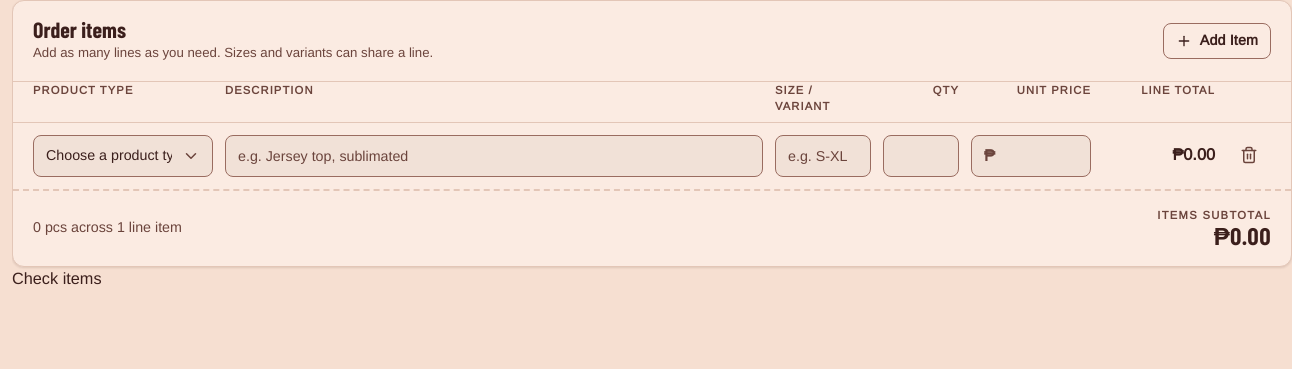
Test: Add Item and Remove (focus rules) › adds a row and moves focus to its Product type
This screenshot has width=1292, height=369.
Step 1. Click the button "Add Item" → (1217, 41), box [1163,23,1271,59]
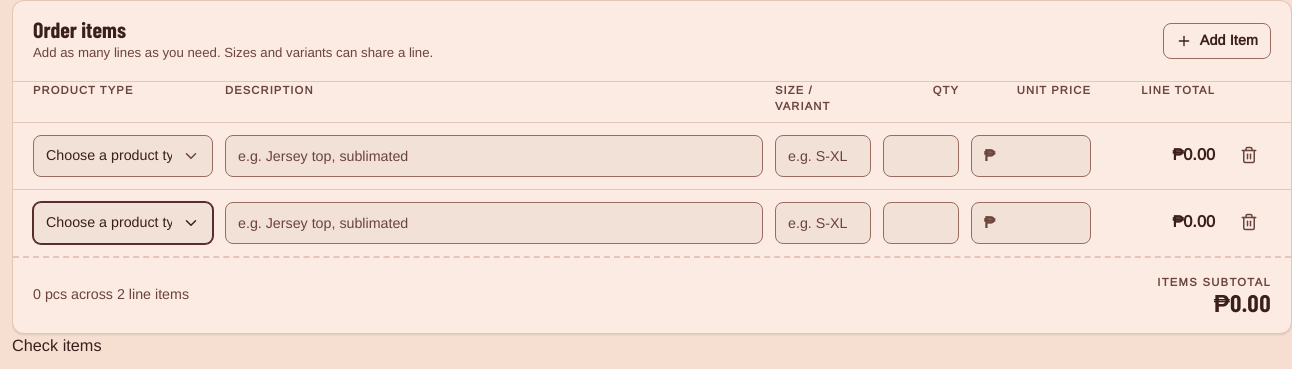
Check: the number of elements "₱ ₱0.00" is 2, box [13,122,1291,189]; [13,189,1291,256]
